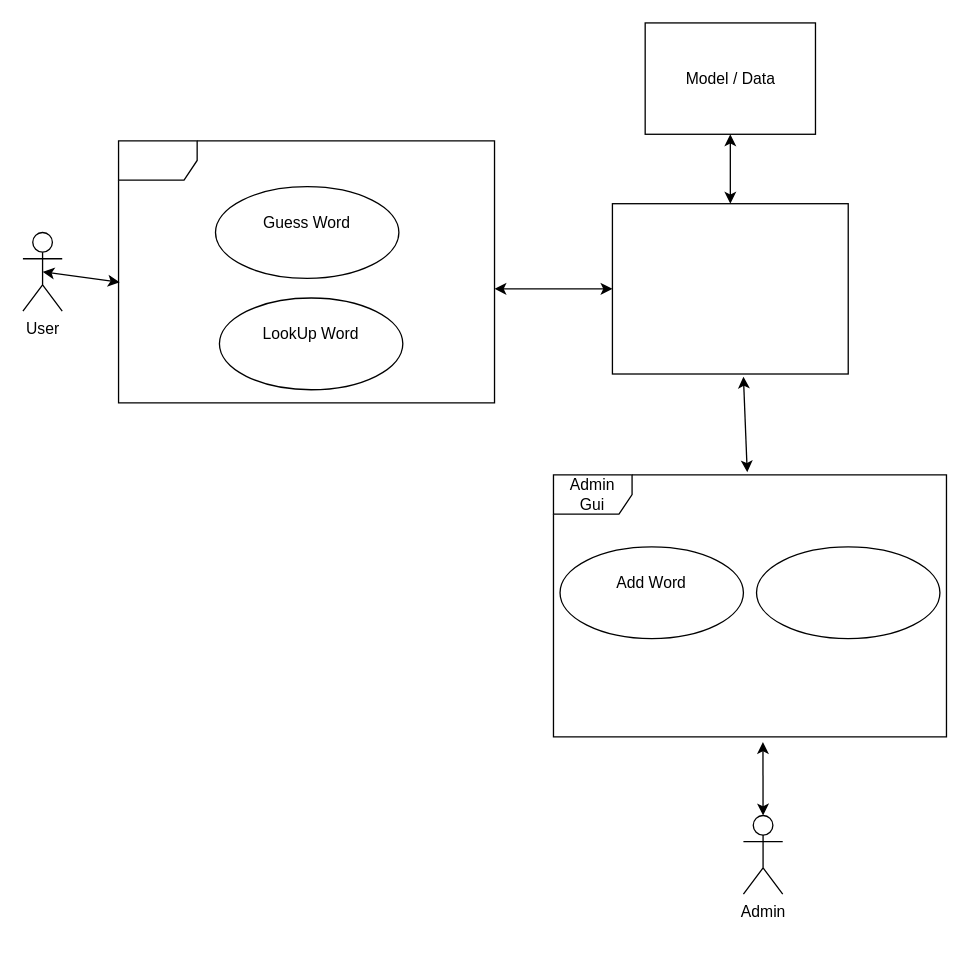
Some shapes in this 969 by 964 pixel diagram are drawn without their labels. The centre of each missing label's shape, as x and y in pixels:
Controller: point 729,288
Gui: point 306,271
Lookup Info: point 847,592
